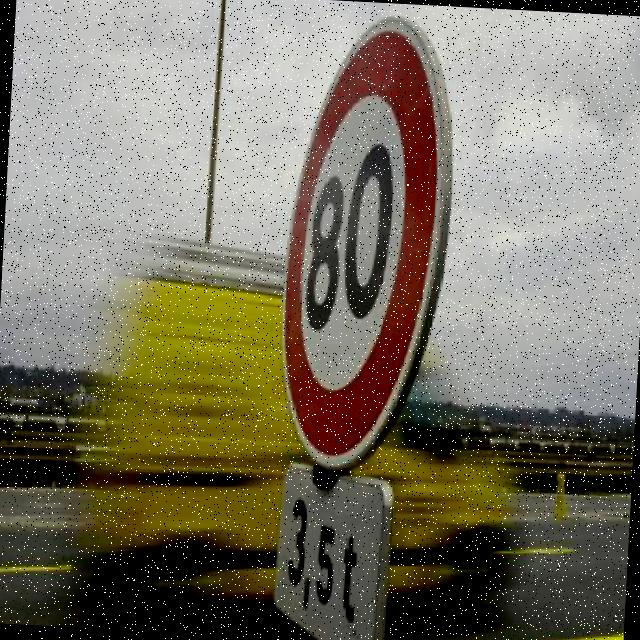Ograniczenie predkosci do 80: (284, 80, 431, 432)
